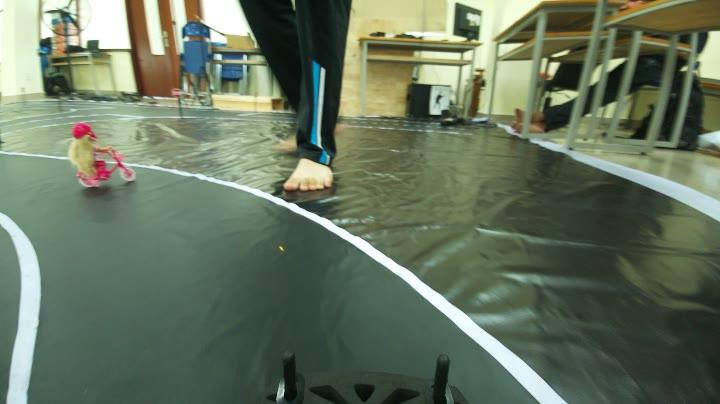pedestrian: (62, 121, 139, 187)
